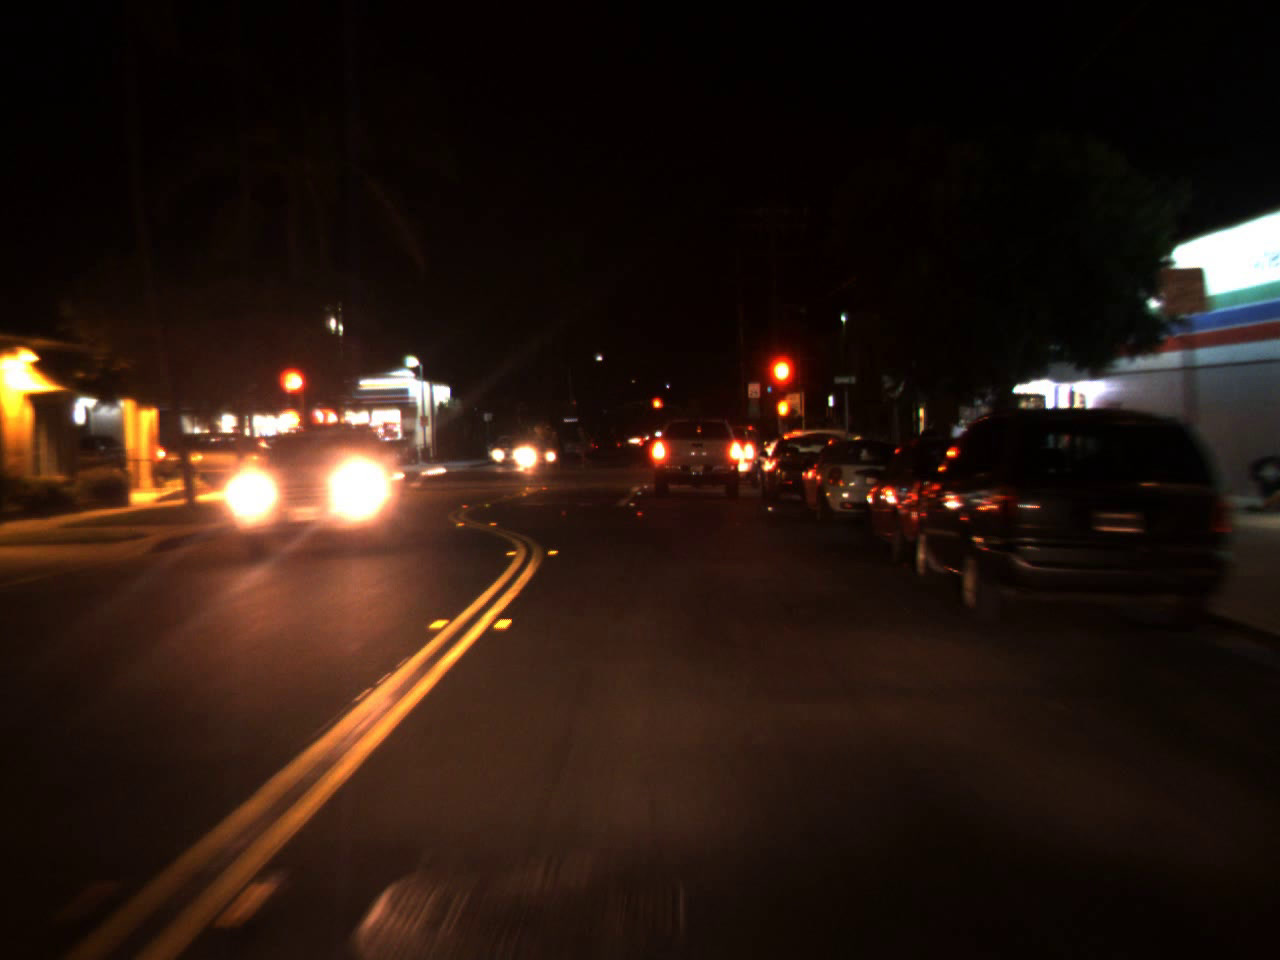stop: (764, 349, 800, 424), (273, 362, 312, 429), (653, 398, 659, 416)
